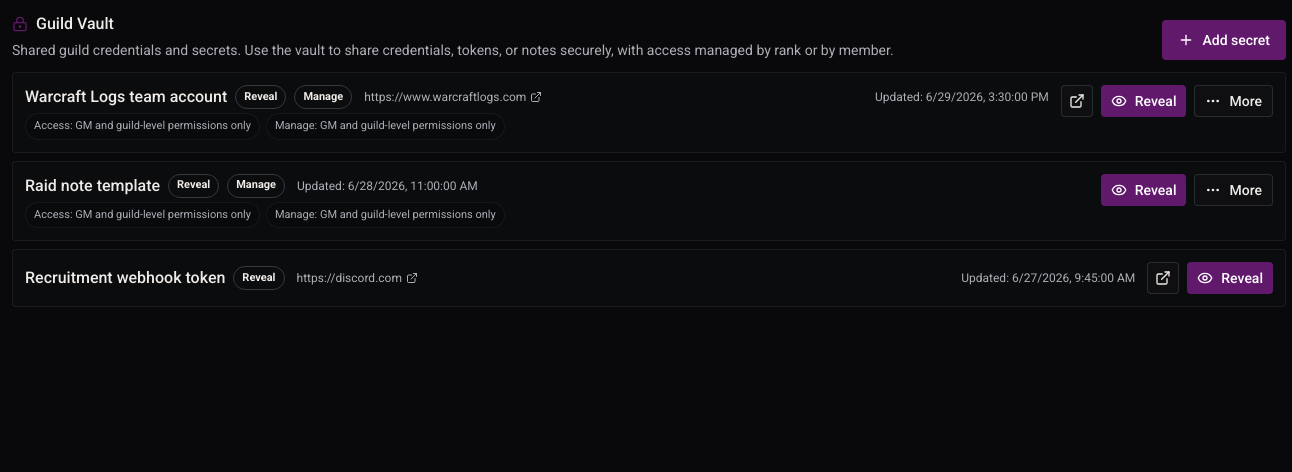
Test: GuildVaultSurface › renders vault secrets and reveals a local payload without Supabase
Check: the heading "Guild Vault" is shown, box [36, 12, 114, 36]
Check: the heading "Raid note template" is shown, box [25, 174, 160, 198]
What coordinates should you click on to do the following:
click the button "Reveal" in the row of "6/28/2026, 11:00:00 AM"
I would click on:
 (1144, 190)
Its box is [1101, 174, 1186, 206].
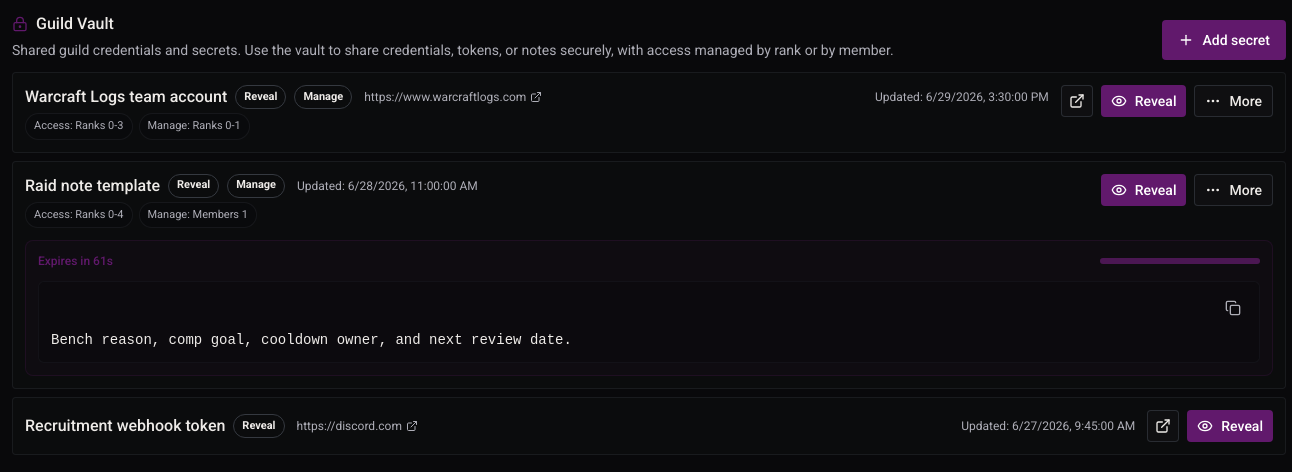
Check: the text "Bench reason, comp goal, cooldown owner, and next review date." is shown, box [51, 332, 572, 348]
